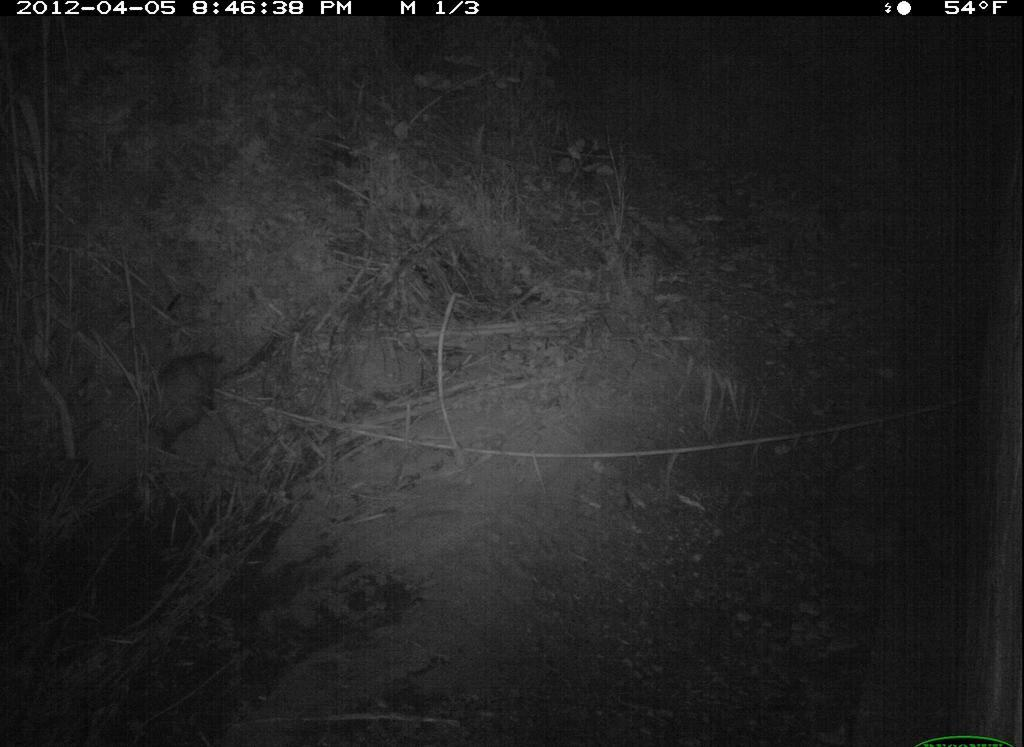opossum: (138, 345, 223, 456)
